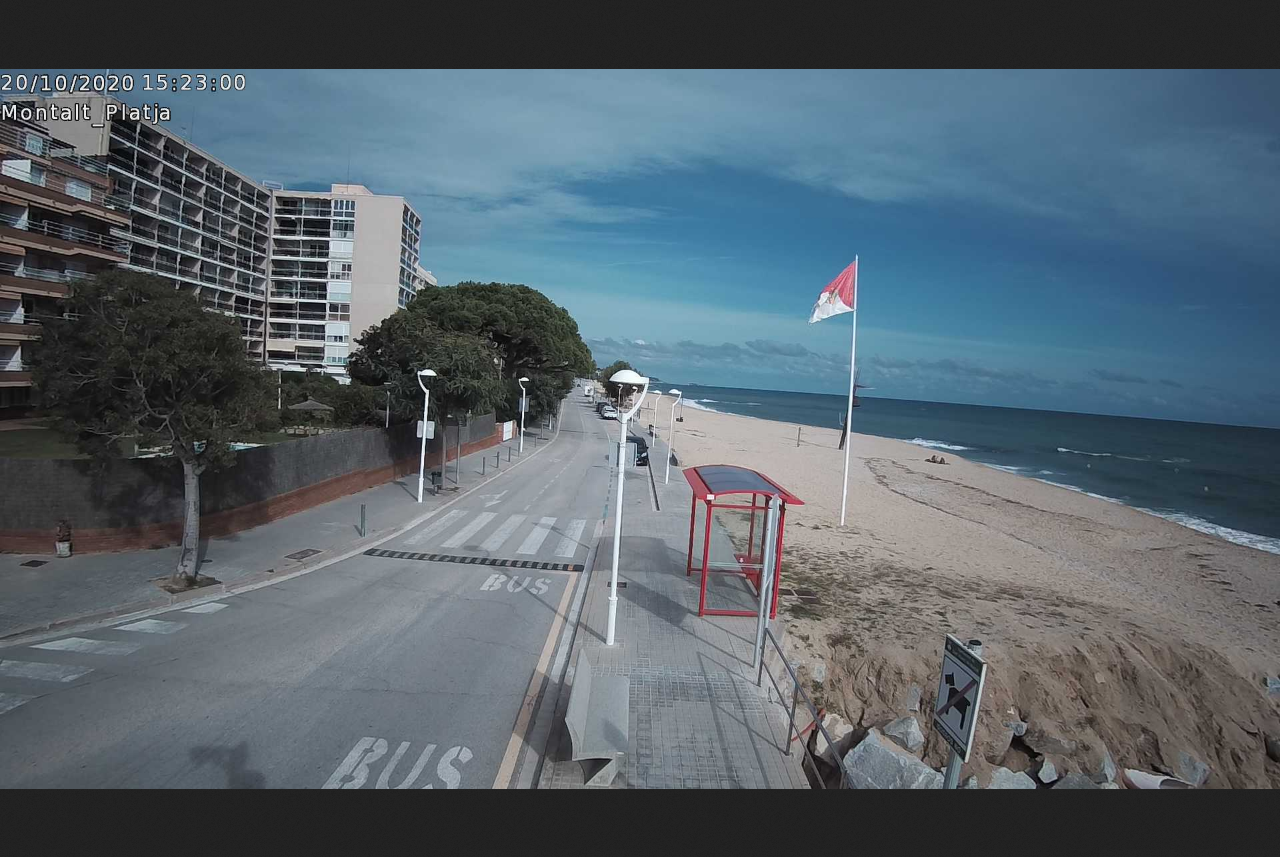maybe: (807, 258, 859, 326)
